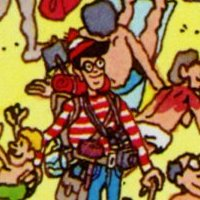waldo: (75, 39, 105, 91)
